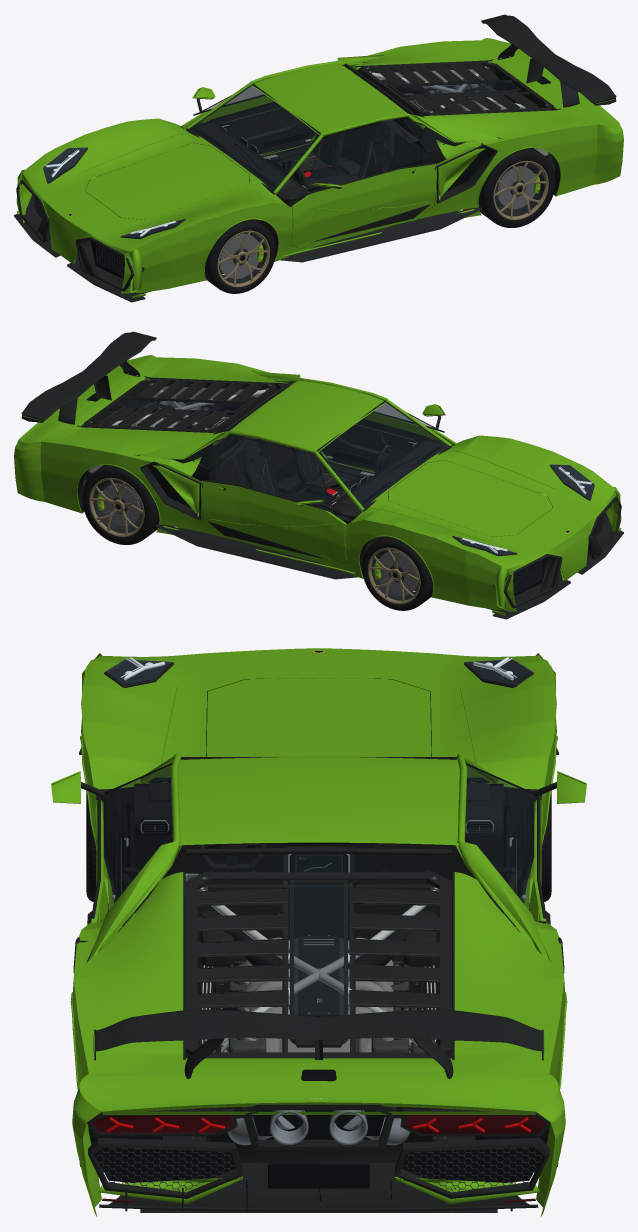
The picture shows the model from 3 angles, top to bottom: view 1: azimuth 30°, elevation 25°; view 2: azimuth 150°, elevation 25°; view 3: azimuth 270°, elevation 25°; orthographic projection. The views are drawn at different scales.
Parts seen in each view (by area): view 1: SVJ_front_quarters, move_hood__SVJ_bonnet_skin, move_driver_door__SVJ_door_exterior_-1, SVJ_front_windshield, SVJ_roof_skin, move_driver_door__SVJ_door_glass_-1, SVJ_side_skin_-1_0, SVJ_rear_shoulder_deck_-1, SVJ_REAR_fixed_omega_wing_airfoil, SVJ_carbon_side_skirt_-1, SVJ_rear_shoulder_deck_1, SVJ_side_skin_-1_4 (+48 smaller); view 2: SVJ_front_quarters, move_hood__SVJ_bonnet_skin, move_passenger_door__SVJ_door_exterior_1, SVJ_front_windshield, SVJ_roof_skin, move_passenger_door__SVJ_door_glass_1, SVJ_side_skin_1_0, SVJ_rear_shoulder_deck_1, SVJ_REAR_fixed_omega_wing_airfoil, SVJ_carbon_side_skirt_1, SVJ_rear_shoulder_deck_-1, SVJ_side_skin_1_4 (+47 smaller); view 3: SVJ_front_quarters, SVJ_roof_skin, move_hood__SVJ_bonnet_skin, SVJ_REAR_rear_upper_deck, SVJ_rear_shoulder_deck_1, SVJ_rear_shoulder_deck_-1, SVJ_REAR_fixed_omega_wing_airfoil, move_engine_lid__SVJ_REAR_removable_cover_frame, move_engine_lid__SVJ_REAR_engine_viewing_window, SVJ_REAR_firewall, move_passenger_door__SVJ_door_glass_1, move_driver_door__SVJ_door_glass_-1 (+54 smaller).
Part boxes in pixels (x1,y1,x2,y2): SVJ_front_quarters: (22, 118, 287, 251); move_hood__SVJ_bonnet_skin: (85, 143, 249, 219); move_driver_door__SVJ_door_exterior_-1: (291, 164, 436, 248); SVJ_front_windshield: (189, 85, 319, 190); SVJ_roof_skin: (251, 63, 406, 134); move_driver_door__SVJ_door_glass_-1: (306, 122, 429, 193); SVJ_side_skin_-1_0: (121, 220, 206, 293); SVJ_rear_shoulder_deck_-1: (423, 106, 596, 158); SVJ_REAR_fixed_omega_wing_airfoil: (481, 14, 616, 103); SVJ_carbon_side_skirt_-1: (280, 207, 481, 262); SVJ_rear_shoulder_deck_1: (344, 40, 500, 68); SVJ_side_skin_-1_4: (559, 124, 597, 195); SVJ_front_quarters: (350, 435, 615, 568); move_hood__SVJ_bonnet_skin: (388, 460, 552, 536); move_passenger_door__SVJ_door_exterior_1: (201, 481, 346, 565); SVJ_front_windshield: (318, 402, 448, 507); SVJ_roof_skin: (231, 380, 386, 451); move_passenger_door__SVJ_door_glass_1: (208, 439, 331, 510); SVJ_side_skin_1_0: (431, 537, 516, 611); SVJ_rear_shoulder_deck_1: (41, 423, 214, 475); SVJ_REAR_fixed_omega_wing_airfoil: (21, 331, 156, 420); SVJ_carbon_side_skirt_1: (156, 524, 357, 579); SVJ_rear_shoulder_deck_-1: (137, 357, 293, 385); SVJ_side_skin_1_4: (40, 441, 78, 512); SVJ_front_quarters: (81, 648, 556, 789); SVJ_roof_skin: (178, 756, 459, 845); move_hood__SVJ_bonnet_skin: (206, 678, 431, 756); SVJ_REAR_rear_upper_deck: (79, 1071, 558, 1111); SVJ_rear_shoulder_deck_1: (453, 872, 564, 1073); SVJ_rear_shoulder_deck_-1: (73, 872, 184, 1073); SVJ_REAR_fixed_omega_wing_airfoil: (95, 1009, 542, 1051); move_engine_lid__SVJ_REAR_removable_cover_frame: (186, 872, 451, 1058); move_engine_lid__SVJ_REAR_engine_viewing_window: (294, 883, 343, 1041); SVJ_REAR_firewall: (197, 884, 440, 1010); move_passenger_door__SVJ_door_glass_1: (465, 764, 535, 908); move_driver_door__SVJ_door_glass_-1: (102, 764, 172, 908).
Size of the model in its own units: 4.94 by 1.14 by 2.27.
